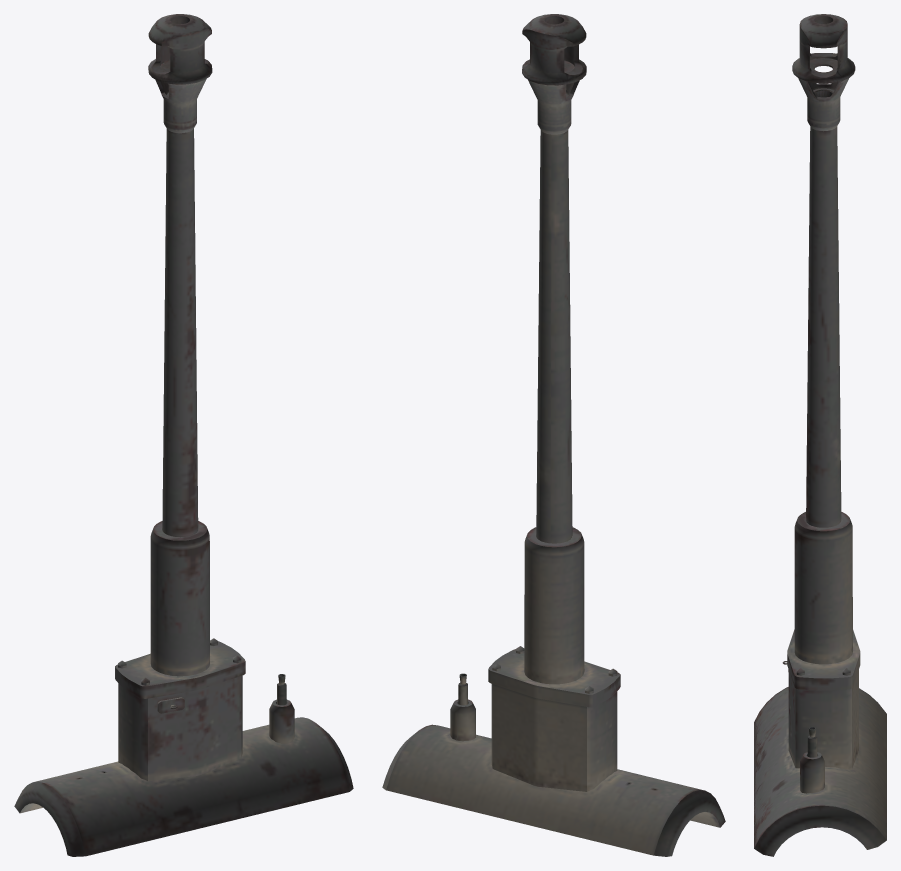
Rendered from Gun_07.glb.
3 views of the same model, side by side, from view 1: azimuth 30°, elevation 25°; view 2: azimuth 150°, elevation 25°; view 3: azimuth 270°, elevation 25° (orthographic). The views are drawn at different scales.
Visible parts, largest first — view 1: set_0_group_0; view 2: set_0_group_0; view 3: set_0_group_0.
Part boxes in pixels (bbox=[...]): set_0_group_0: bbox=[14, 14, 353, 856]; set_0_group_0: bbox=[382, 14, 725, 856]; set_0_group_0: bbox=[754, 14, 886, 856].
Size of the model in its own units: 1.26 by 3.34 by 0.5237.
1 material, 1 textured.
